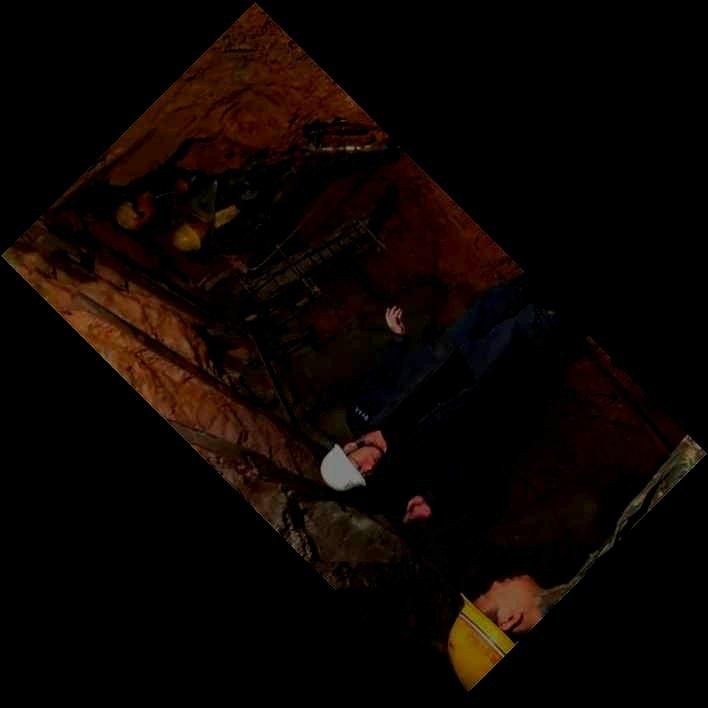helmet: (447, 573, 545, 692), (320, 431, 382, 491), (116, 187, 158, 228), (172, 210, 213, 251)
